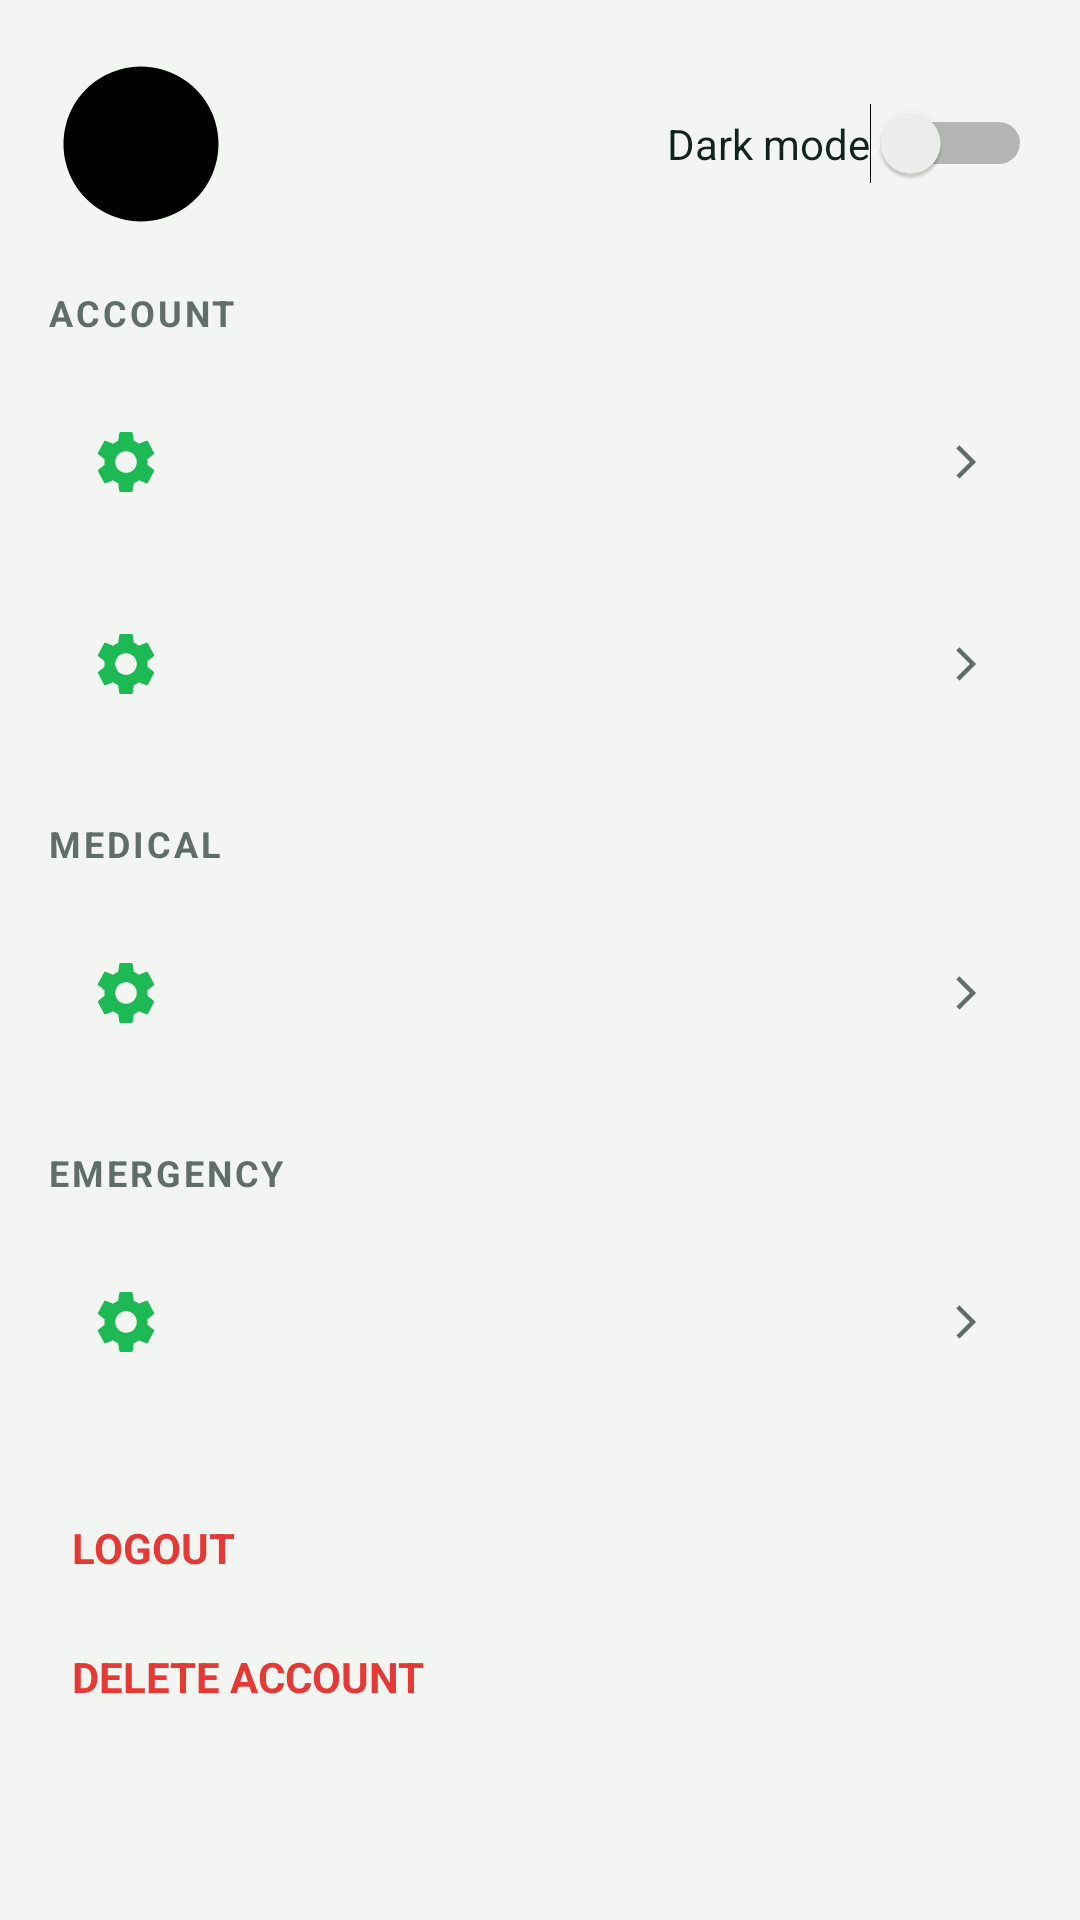

Point at icon controls on the screen. Image size 1080×1920, points as point (x, y).
arrow right: point (966, 462), point (966, 664), point (966, 993), point (966, 1322)
settings: point (126, 462), point (126, 664), point (126, 993), point (126, 1322)
